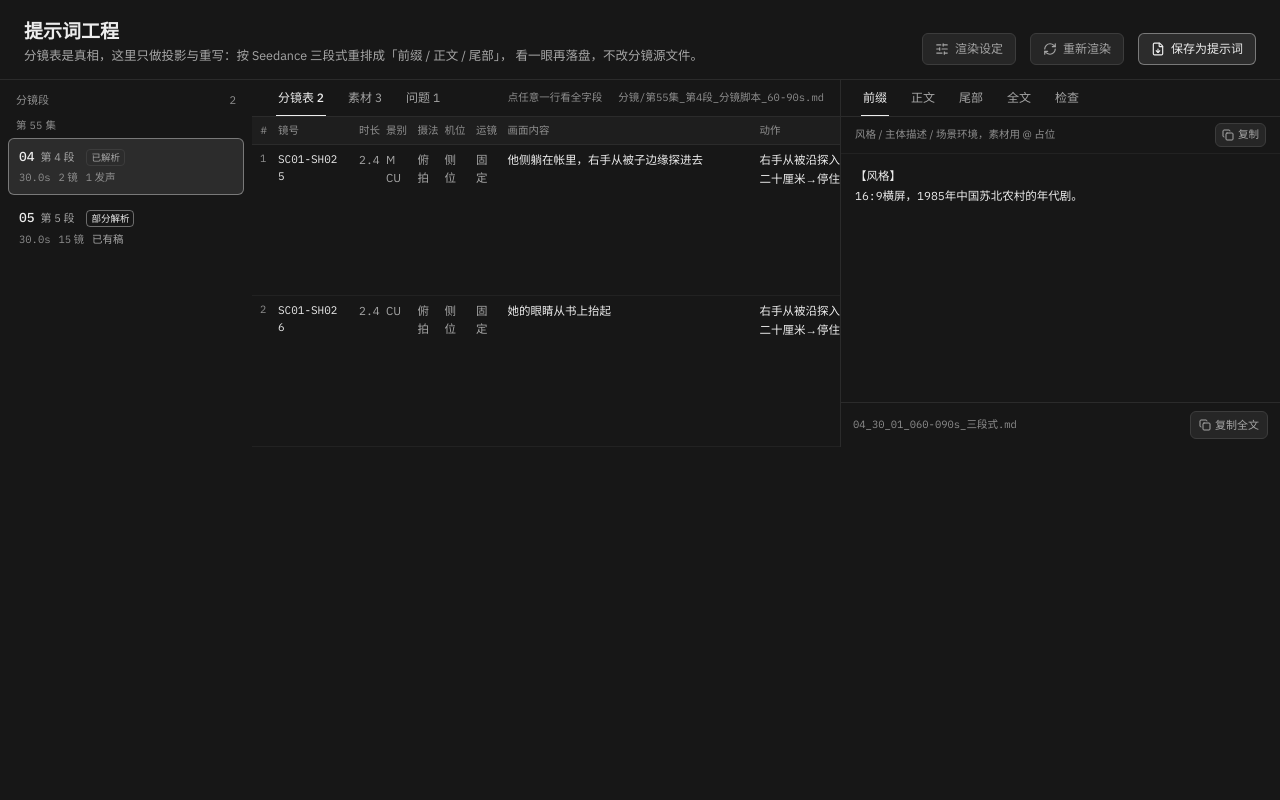
it: 提示词工程三栏 › 点一行弹出单镜详情，Esc 关闭
Step 1. Click the text "SC01-SH025" → (308, 159), box [270, 145, 351, 296]
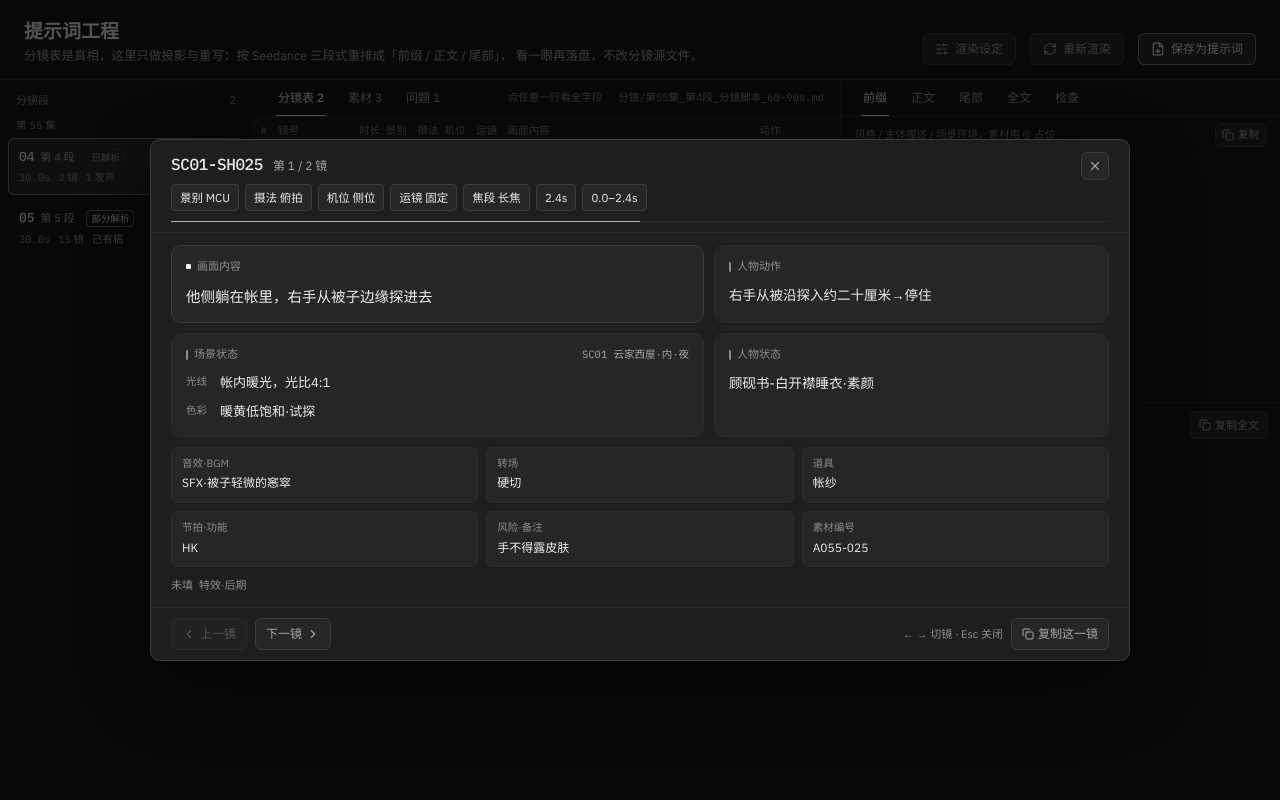
Result: the dialog shows "画面内容" at [197, 259, 241, 273]
Result: the dialog shows "他侧躺在帐里，右手从被子边缘探进去" at [186, 287, 432, 306]
Result: the dialog shows "手不得露皮肤" at [497, 540, 569, 555]
Step 2. Press Escape
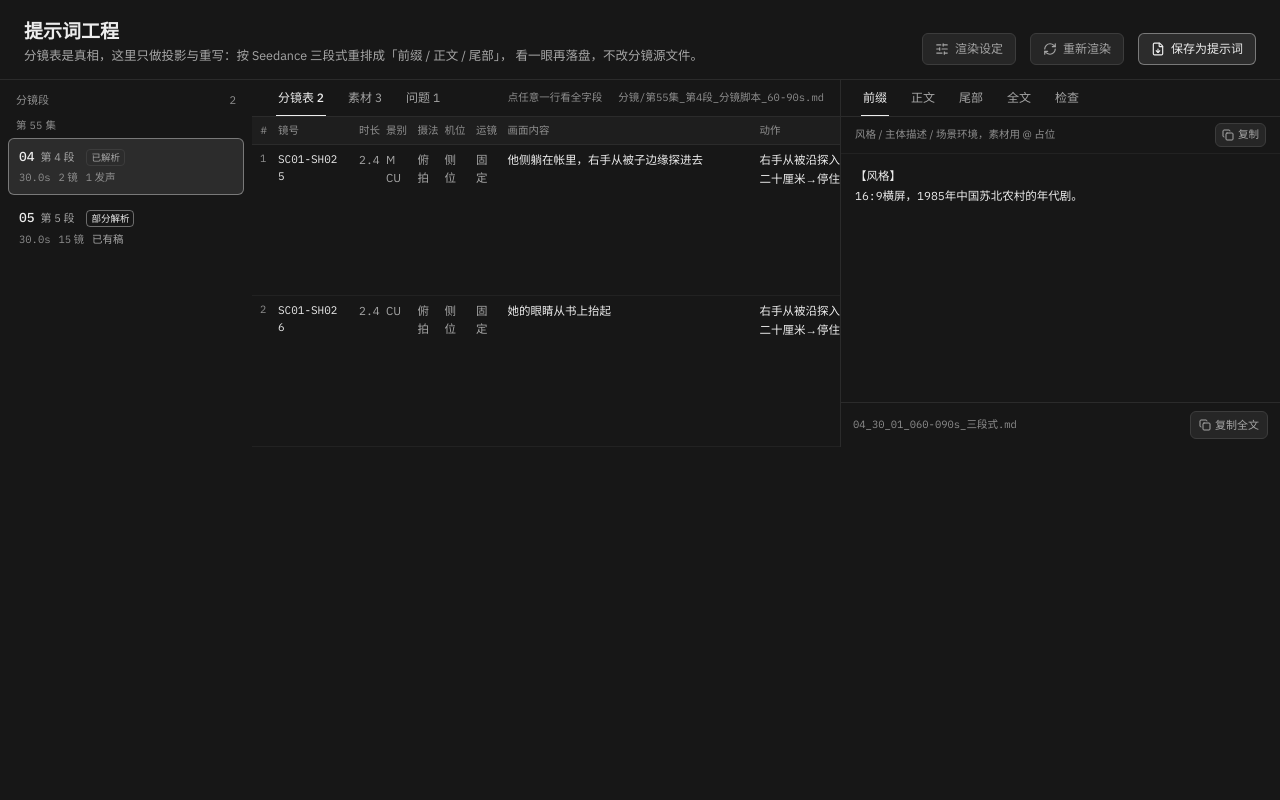
Result: the dialog is gone
